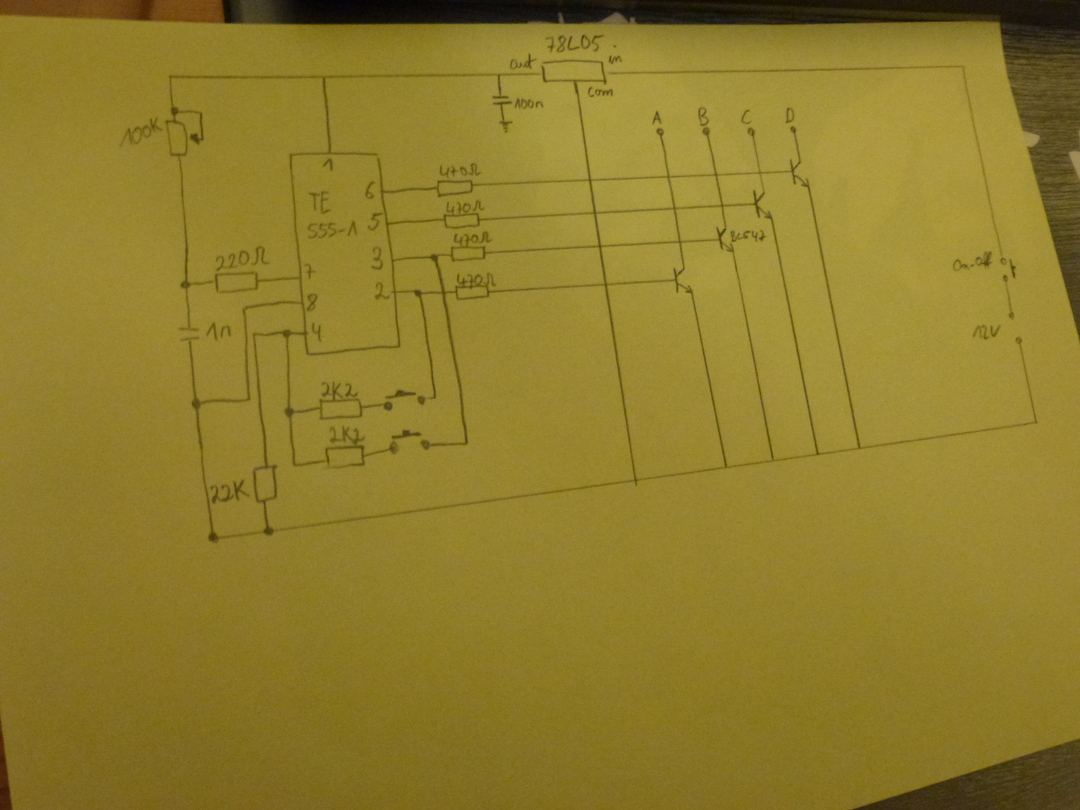capacitor.unpolarized: (179, 324, 201, 345), (491, 93, 513, 108)
crossover: (588, 208, 602, 218), (754, 168, 768, 178), (674, 237, 686, 247), (663, 173, 675, 182), (585, 176, 597, 185), (439, 288, 450, 297), (601, 280, 612, 289), (596, 243, 606, 252), (669, 204, 680, 212), (711, 171, 722, 179), (718, 202, 727, 210)
gnd: (497, 118, 514, 134)
integrated_cricuit.ne555: (287, 150, 402, 356)
junction: (207, 531, 221, 545), (283, 406, 297, 419), (280, 327, 293, 341), (191, 397, 203, 411), (169, 104, 181, 118), (179, 279, 194, 290), (412, 287, 425, 299), (429, 252, 441, 263), (263, 525, 274, 537), (631, 476, 642, 486), (165, 73, 176, 82), (461, 438, 471, 447), (320, 73, 330, 82), (241, 303, 250, 312), (813, 450, 823, 458), (291, 460, 299, 470), (495, 71, 504, 79), (959, 63, 968, 71), (855, 443, 863, 452), (722, 464, 731, 472), (197, 109, 206, 117), (431, 392, 439, 401), (251, 331, 259, 339), (245, 394, 252, 403), (1032, 418, 1039, 426), (769, 456, 776, 464)
resistor: (251, 462, 281, 505), (211, 270, 262, 294), (321, 444, 368, 469), (316, 398, 365, 420), (450, 244, 487, 263), (435, 179, 474, 197), (442, 213, 481, 229), (454, 285, 491, 301)
resistor.adjustable: (164, 118, 205, 158)
switch: (388, 428, 432, 455), (383, 388, 430, 412), (998, 256, 1018, 283)
terminal: (1013, 335, 1026, 347), (746, 126, 757, 139), (654, 126, 666, 137), (701, 126, 712, 137), (1006, 310, 1017, 321), (789, 125, 799, 135)
text: (305, 190, 358, 240), (215, 244, 271, 272), (120, 116, 163, 148), (545, 33, 605, 52), (210, 478, 250, 503), (952, 251, 994, 272), (319, 379, 360, 400), (327, 424, 367, 445), (439, 162, 482, 178), (453, 230, 492, 247), (445, 199, 485, 215), (456, 272, 496, 288), (729, 228, 767, 243), (971, 323, 1002, 340), (508, 52, 536, 70), (206, 322, 232, 341), (372, 280, 391, 302), (369, 245, 385, 271), (366, 211, 384, 233), (514, 97, 544, 110), (607, 44, 625, 65), (310, 320, 325, 343), (587, 86, 614, 98), (304, 292, 319, 313), (321, 156, 337, 174), (696, 106, 710, 126), (364, 180, 378, 200), (303, 261, 316, 281), (740, 109, 754, 125), (784, 107, 797, 124), (650, 110, 664, 125)
transistor: (672, 265, 695, 295), (789, 157, 810, 189), (752, 190, 774, 220), (715, 225, 737, 253)
voltage.dc_regulator: (540, 58, 608, 86)
